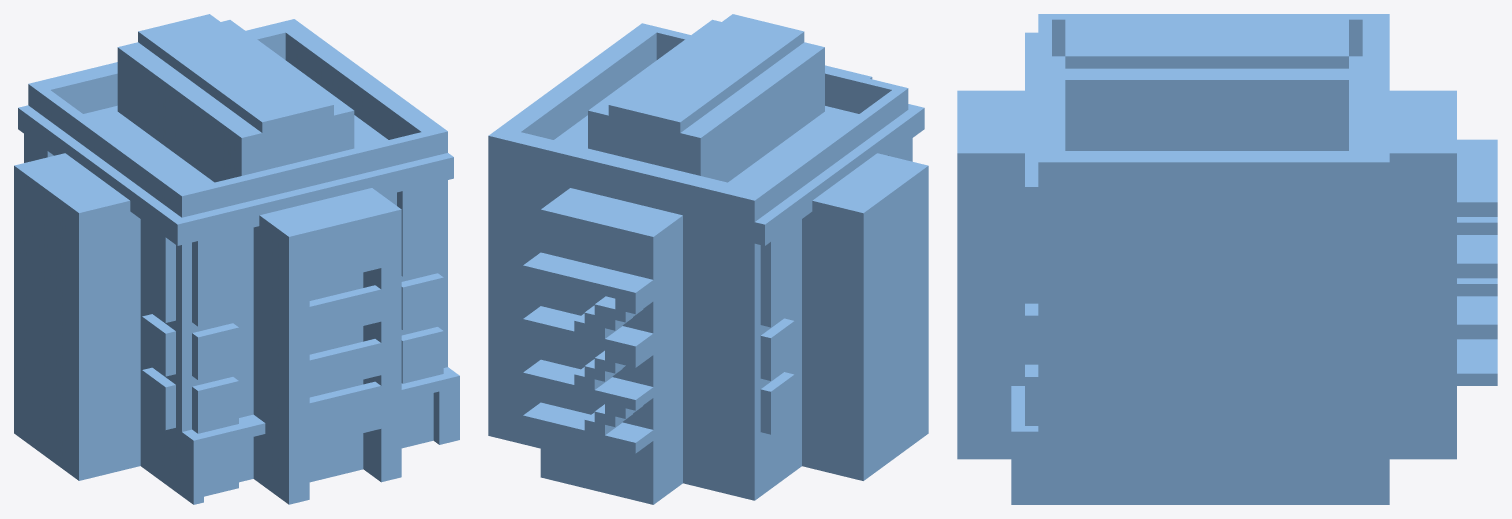
Rendered from building_1.gltf.
The picture shows the model from 3 angles, left to right: view 1: azimuth 30°, elevation 25°; view 2: azimuth 150°, elevation 25°; view 3: azimuth 270°, elevation 25°; orthographic projection. The views are drawn at different scales.
Visible parts, largest first — view 1: Layer.1; view 2: Layer.1; view 3: Layer.1.
Boxes of the visible parts, x1,y1,x2,y2 form: Layer.1: (14, 14, 459, 504); Layer.1: (488, 14, 928, 504); Layer.1: (957, 14, 1497, 504).
Bounding box in the file's own units: 32 × 32 × 40.
1 material, 1 textured.
